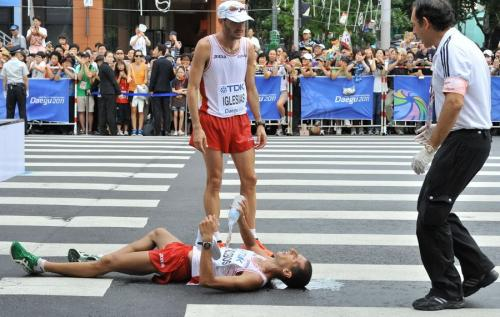10+: (2, 2, 487, 303)
down: (13, 217, 328, 312)
